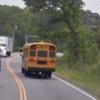Bus: (18, 40, 57, 81)
